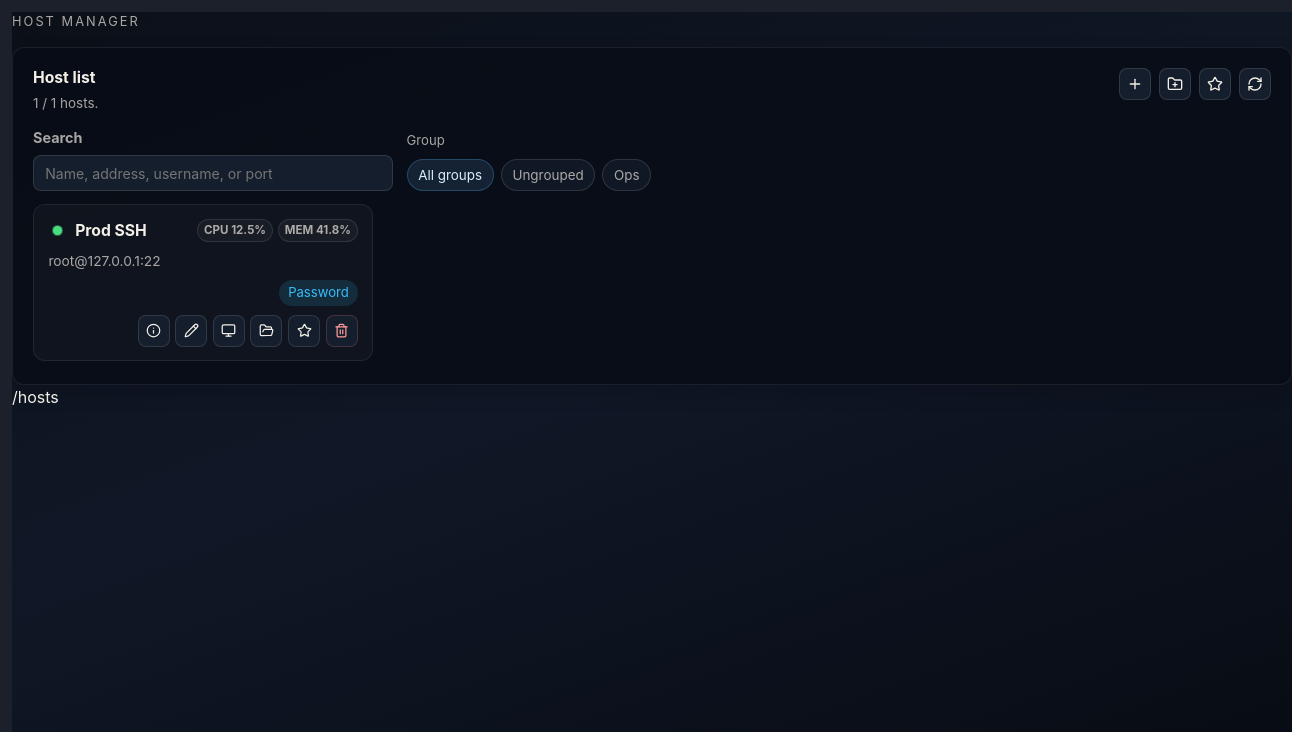
Test case: HostsPage › opens the file manager from the host card action area
The image size is (1292, 732).
Check: the text "Prod SSH" is shown, box left=75, top=221, right=147, bottom=240
Click the button named "Open file manager".
click(266, 331)  # box left=250, top=315, right=282, bottom=347
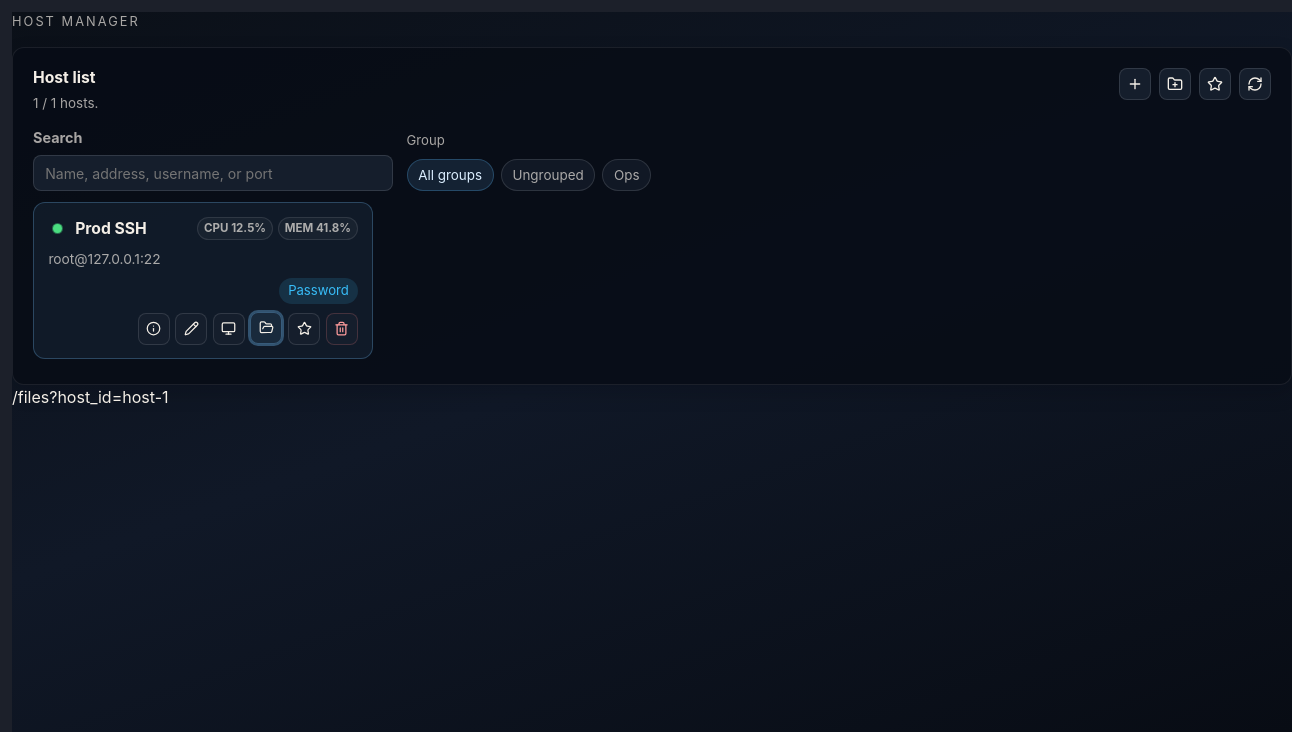
Check: the text with test id "location-probe" reads "/files?host_id=host-1", box left=12, top=387, right=168, bottom=407
